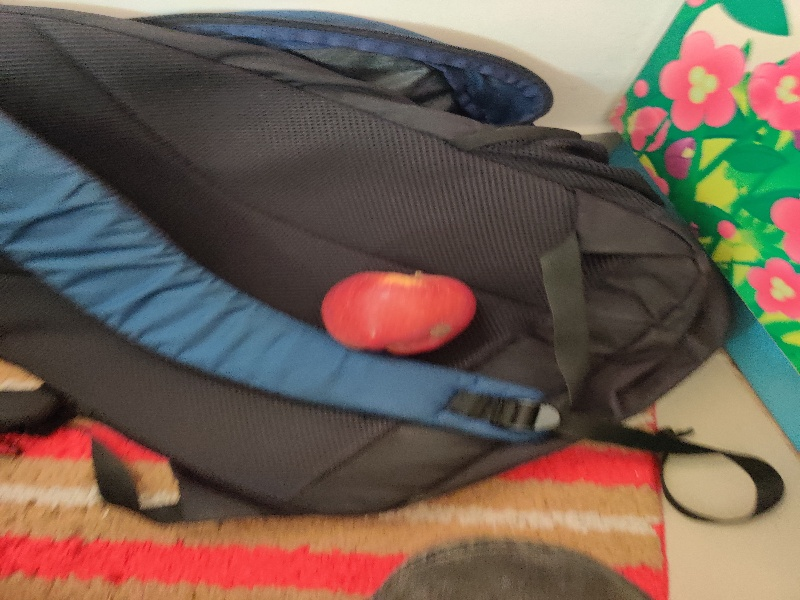apple: (317, 256, 474, 358)
